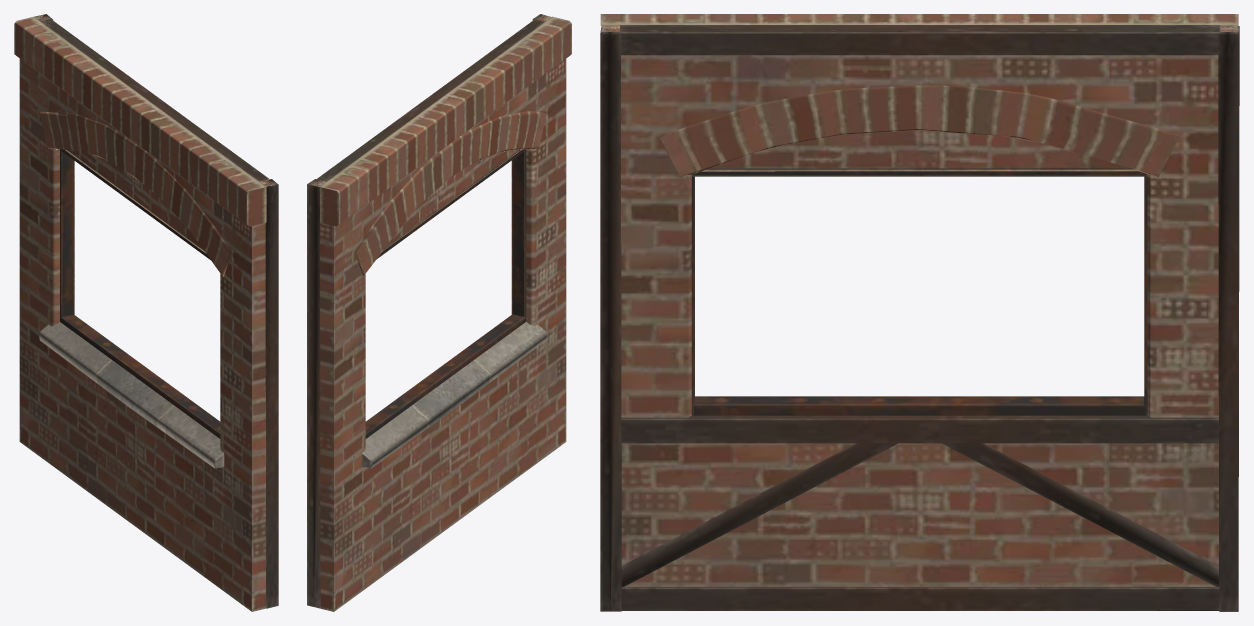
The model's file is wall.window.brick.glb.
The picture shows the model from 3 angles, left to right: view 1: azimuth 30°, elevation 25°; view 2: azimuth 150°, elevation 25°; view 3: azimuth 270°, elevation 25°; orthographic projection. The views are drawn at different scales.
Parts seen in each view (by area): view 1: model; view 2: model; view 3: model.
Boxes of the visible parts, <box> form: model: <box>14,14,278,611</box>; model: <box>307,14,571,611</box>; model: <box>600,14,1239,611</box>.
Size of the model in its own units: 0.2706 by 3.01 by 3.01.
Materials: 1 (1 with a texture image).
